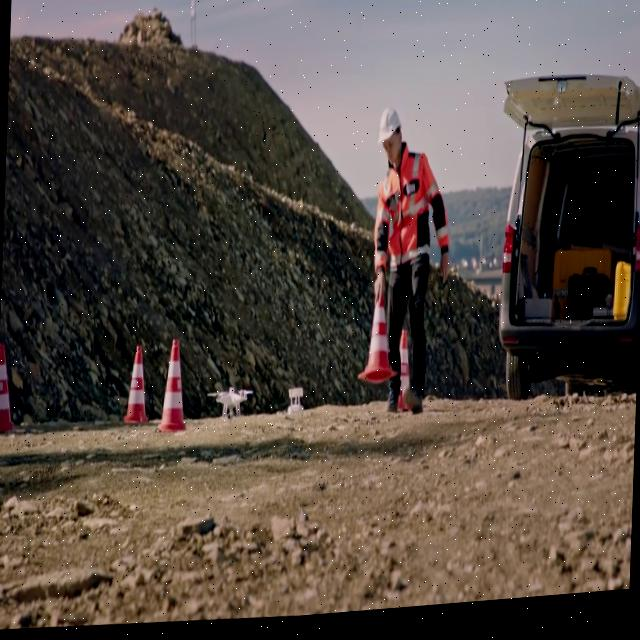drone: (205, 386, 254, 426)
